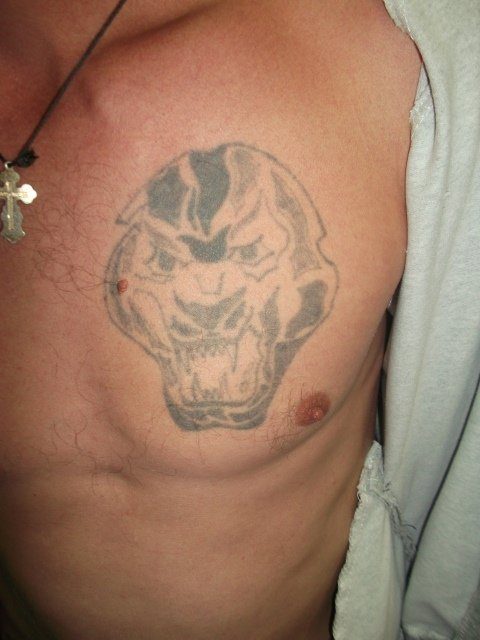tatu5_tigr: (76, 145, 372, 457)
